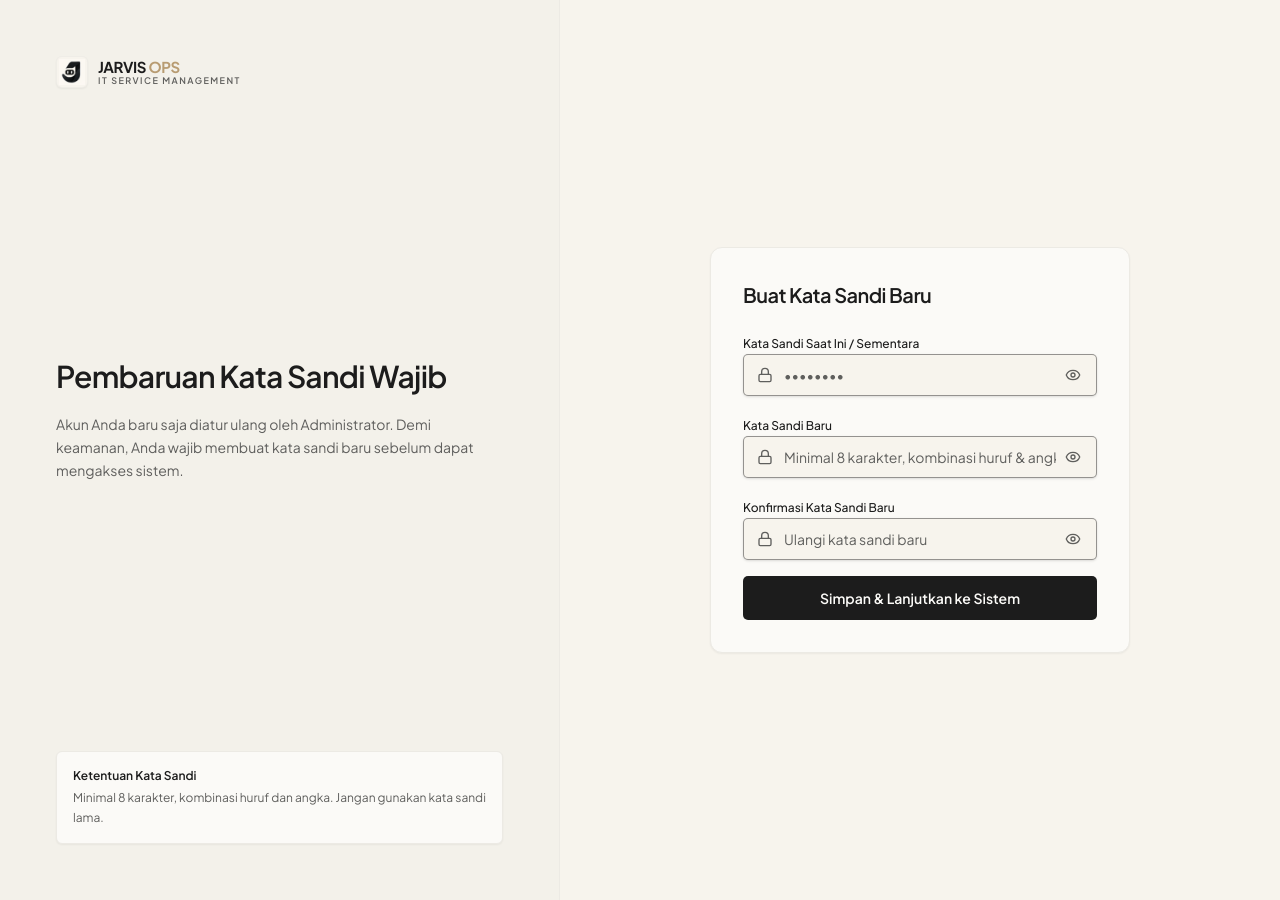
Test case: Ganti Password Page › toggles password visibility for all fields
Toggle current password
Step 1. Click the button named "tampilkan kata sandi saat ini" → point(1073, 375), box [1063,365,1083,385]
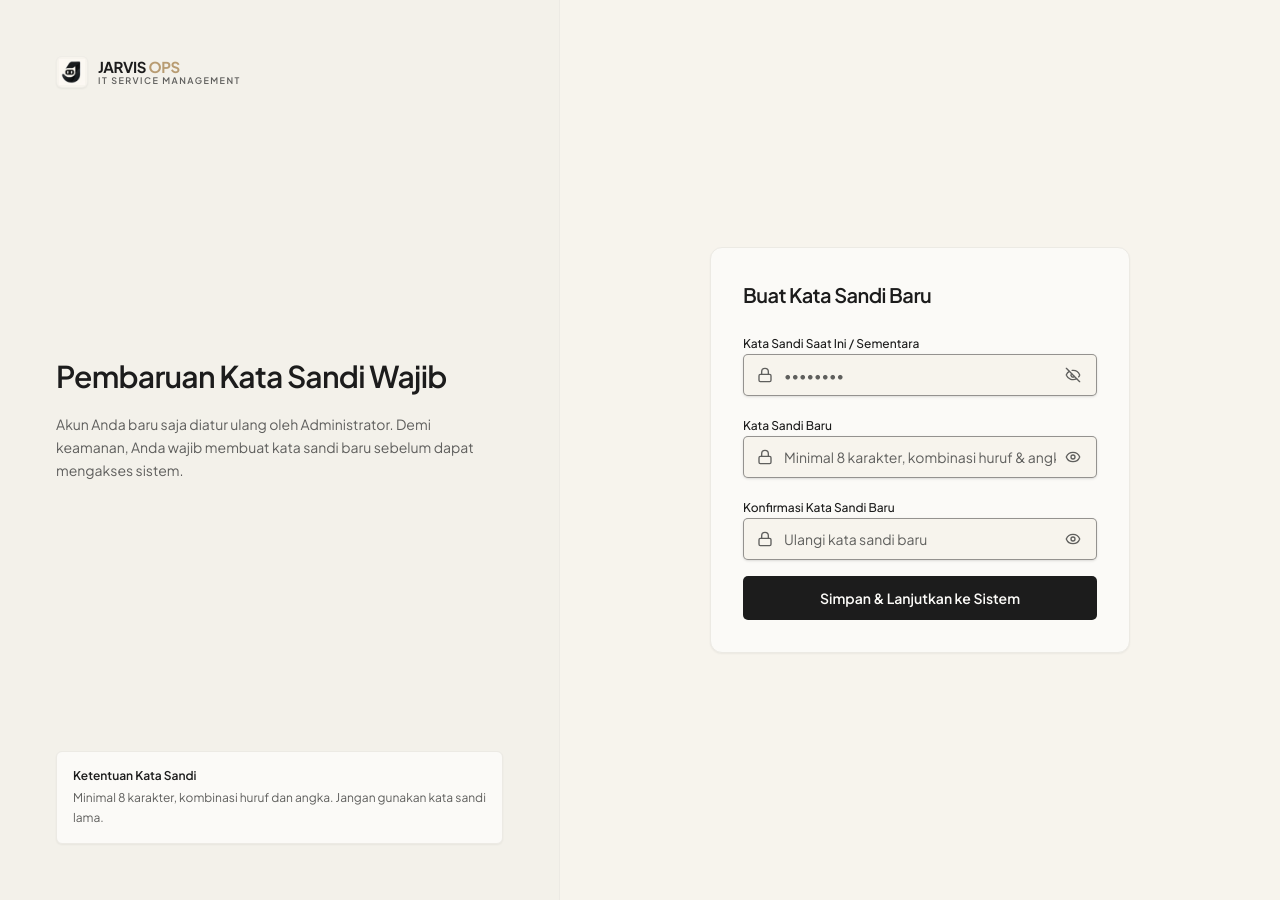
Check: the button named "sembunyikan kata sandi saat ini" is shown, box [1063,365,1083,385]
Toggle new password
Step 2. Click the button named "tampilkan kata sandi baru" → point(1073, 457), box [1063,447,1083,467]
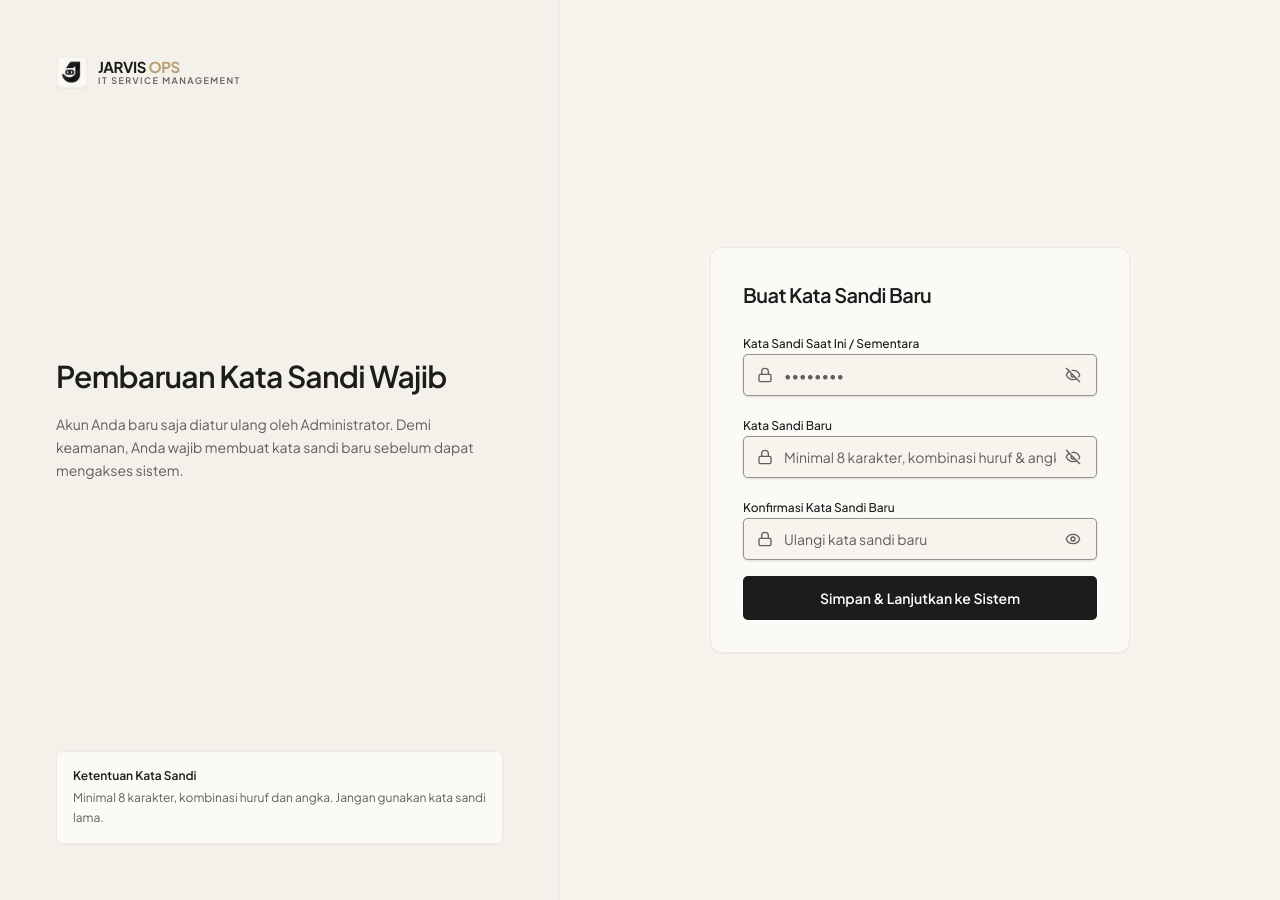
Check: the button named "sembunyikan kata sandi baru" is shown, box [1063,447,1083,467]
Toggle confirm password
Step 3. Click the button named "tampilkan konfirmasi kata sandi" → point(1073, 539), box [1063,529,1083,549]
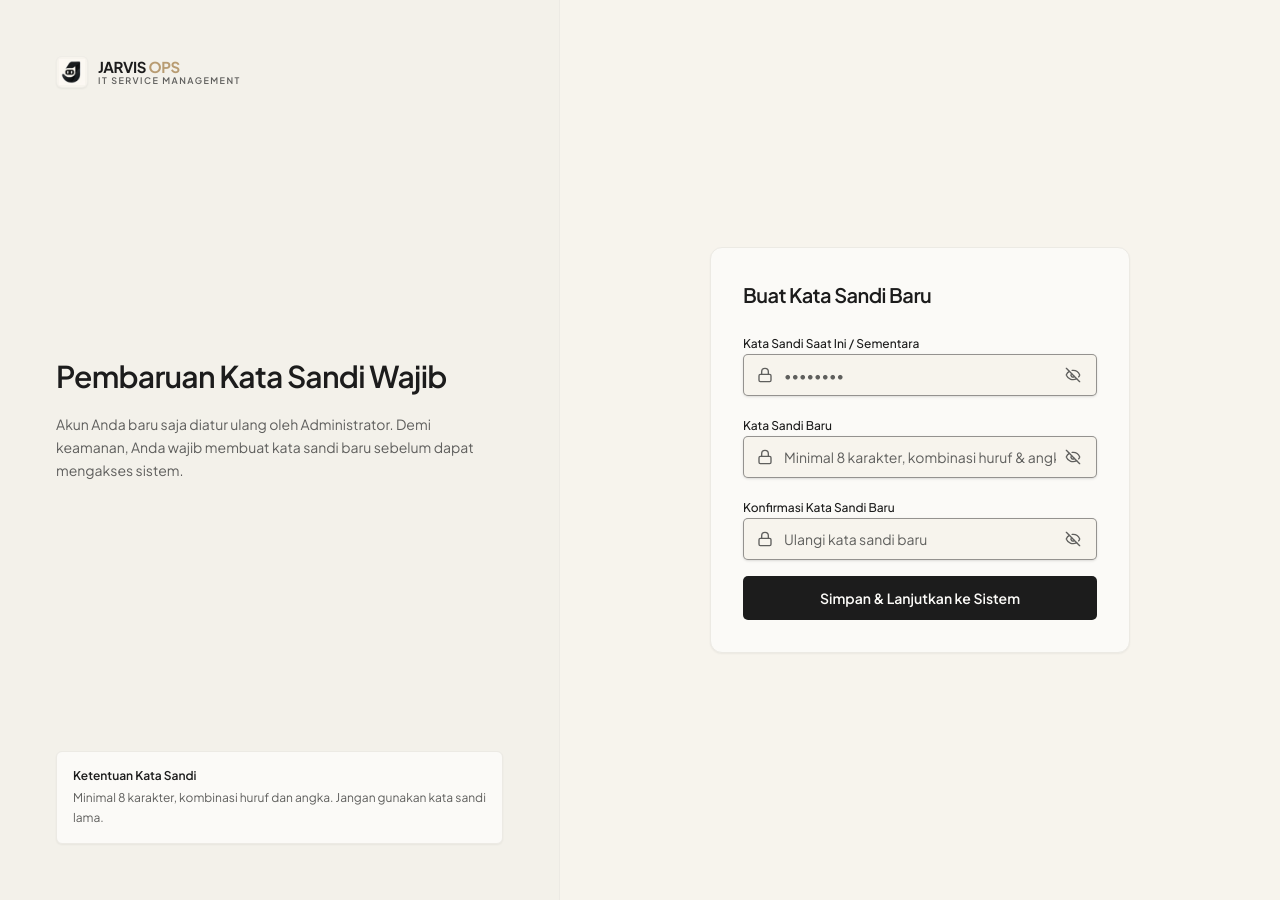
Check: the button named "sembunyikan konfirmasi kata sandi" is shown, box [1063,529,1083,549]
